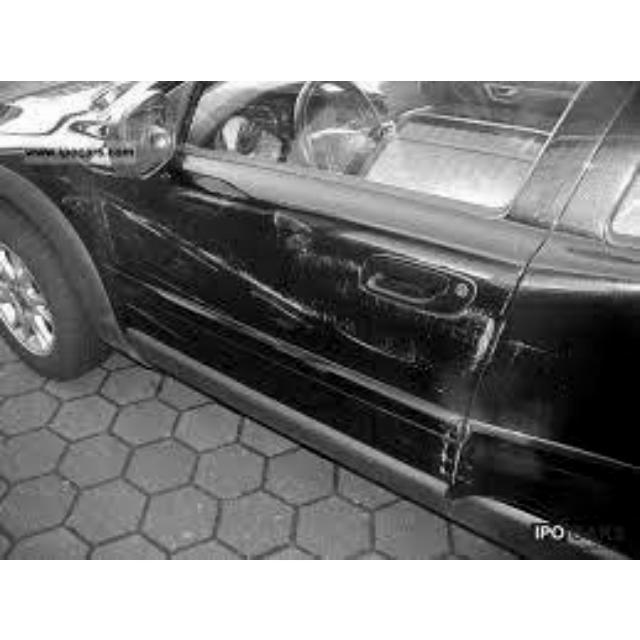doorouter-dent: (110, 150, 455, 458)
